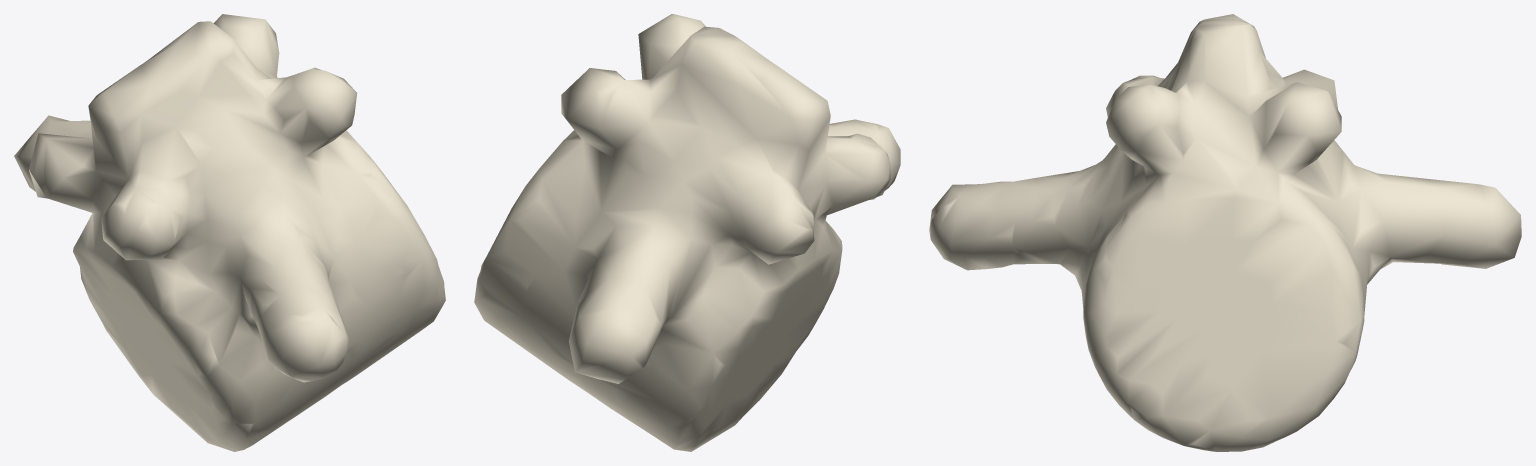
Rendered from cervical_3.glb.
3 views of the same model, side by side, from view 1: azimuth 30°, elevation 25°; view 2: azimuth 150°, elevation 25°; view 3: azimuth 270°, elevation 25° (orthographic). The views are drawn at different scales.
Visible parts, largest first — view 1: geometry_0; view 2: geometry_0; view 3: geometry_0.
Part boxes in pixels (x1,y1,x2,y2): geometry_0: [14, 14, 445, 451]; geometry_0: [474, 14, 900, 451]; geometry_0: [929, 14, 1521, 451].
Size of the model in its own units: 0.1443 by 0.1646 by 0.2112.
